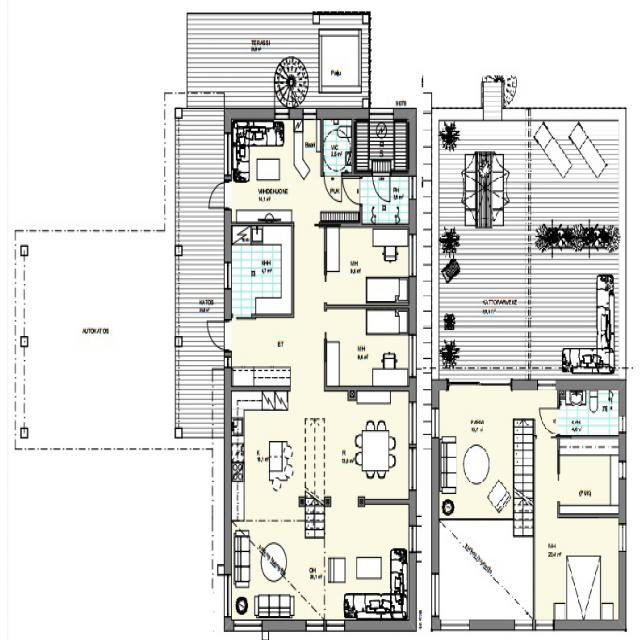door: (205, 322, 231, 350), (207, 183, 231, 208), (372, 173, 390, 202), (343, 178, 362, 204), (324, 173, 341, 201), (541, 409, 559, 433)
